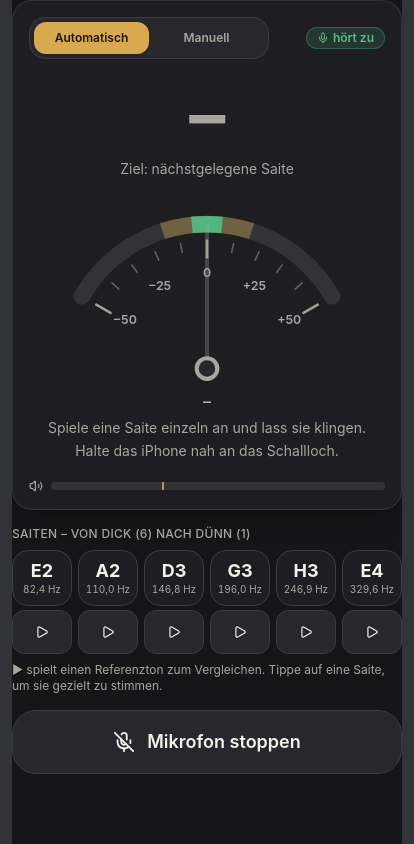
TunerWidget › pausiert die Auswertung, während ein Referenzton erklingt
What coordinates should you click on to do the following:
click the button named "Referenzton A2 abspielen"
I would click on:
 (108, 632)
Its box is left=78, top=610, right=138, bottom=654.
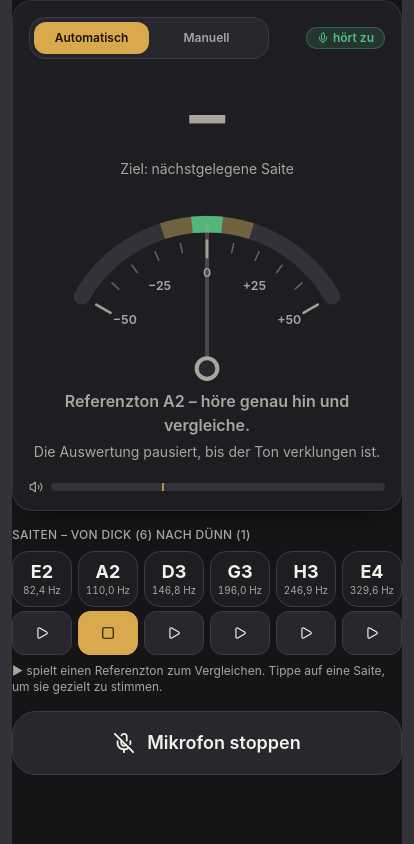
Result: the text "Referenzton A2 – höre genau hin und vergleiche." is shown at left=65, top=391, right=349, bottom=435
